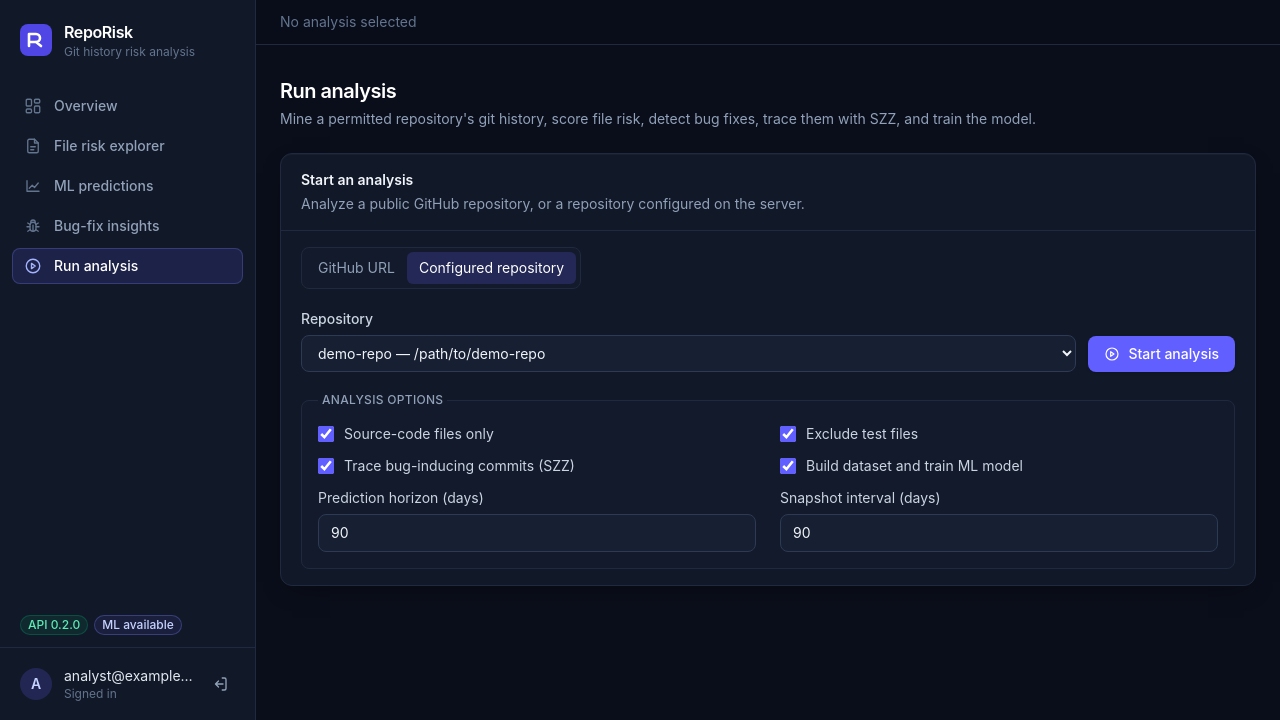
it: protected dashboard › shows why an analysis failed
What coordinates should you click on to do the following:
click the button "Start analysis"
I would click on:
 (1162, 354)
Its box is [1088,336,1235,372].
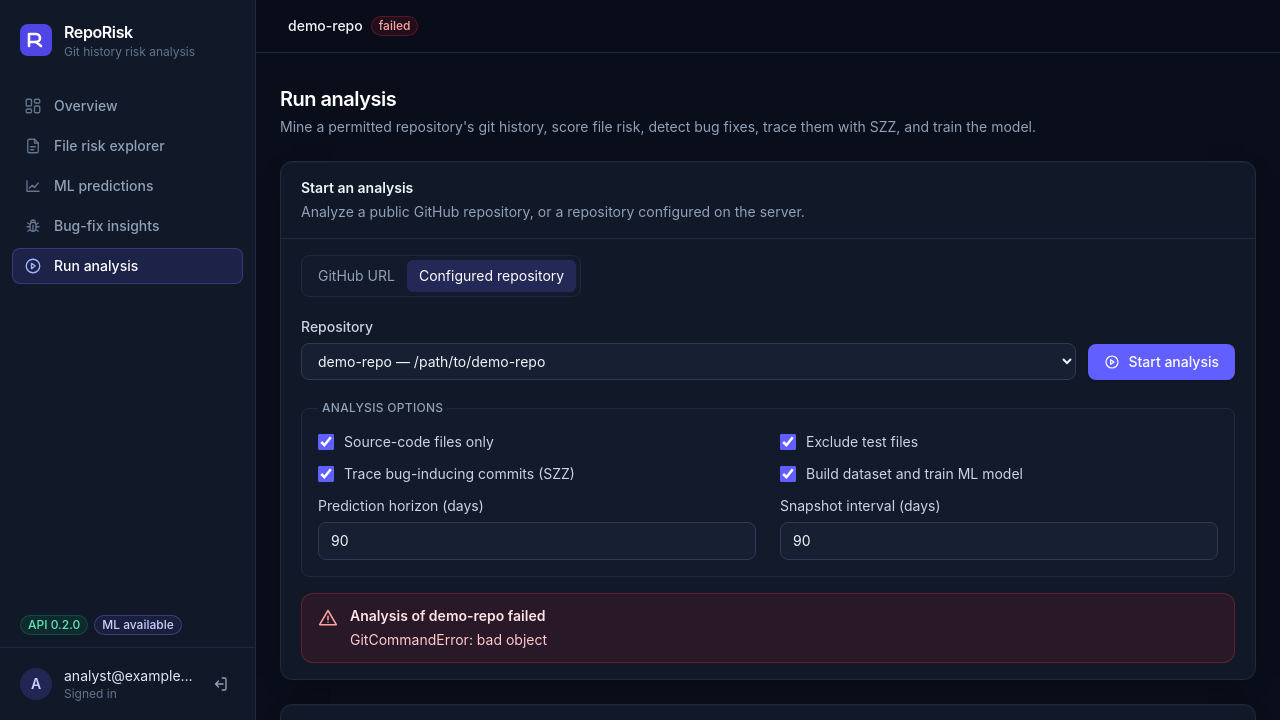
expect the text "GitCommandError: bad object" is shown: met, box [350,630,547,650]
